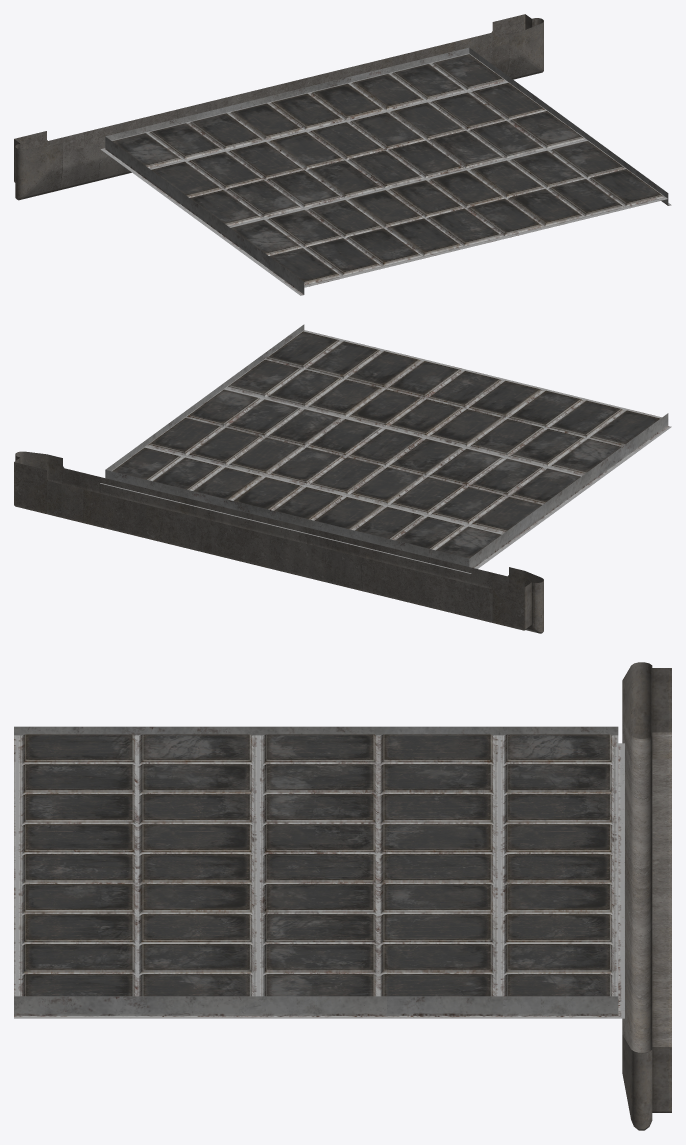
File: window_tall_large_01.gltf
The picture shows the model from 3 angles, top to bottom: view 1: azimuth 30°, elevation 25°; view 2: azimuth 150°, elevation 25°; view 3: azimuth 270°, elevation 25°; orthographic projection. The views are drawn at different scales.
Parts seen in each view (by area): view 1: window_tall_large_01; view 2: window_tall_large_01; view 3: window_tall_large_01.
Boxes of the visible parts, x1=… form: window_tall_large_01: x1=14, y1=14, x2=671, y2=295; window_tall_large_01: x1=14, y1=324, x2=671, y2=633; window_tall_large_01: x1=14, y1=662, x2=671, y2=1130.
Bounding box in the file's own units: 2.84 × 0.2678 × 2.02.
Materials: 3 (3 with a texture image).
